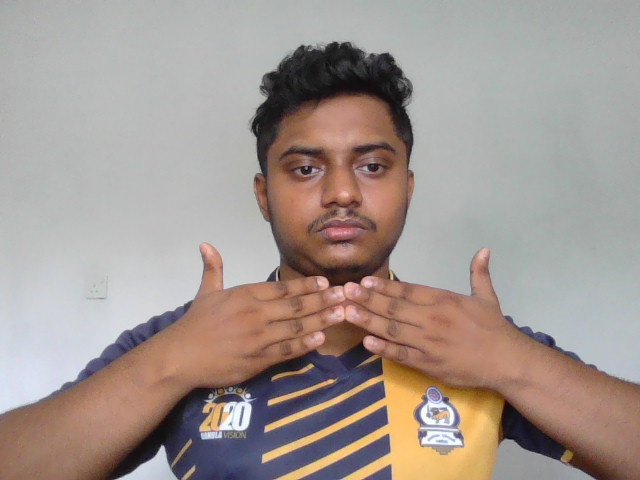Thank You: (185, 238, 519, 403)
